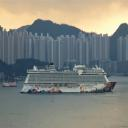cruises: (21, 62, 119, 97)
